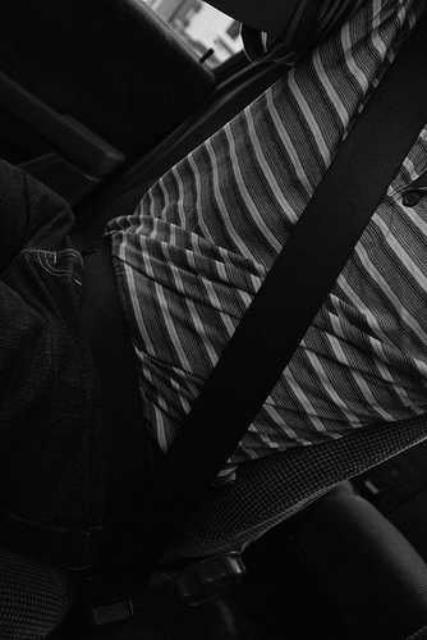Seatbelt: (157, 1, 427, 476)
